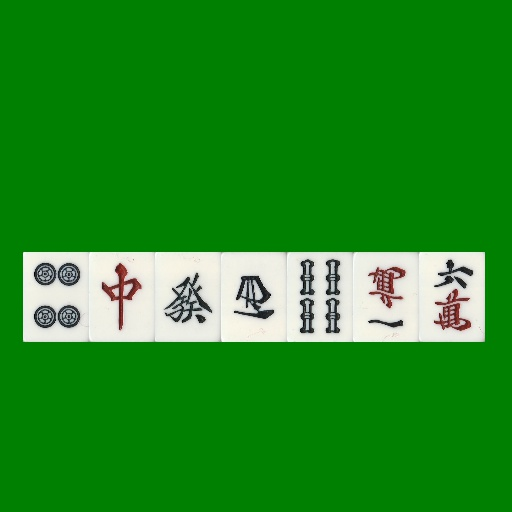1m: (353, 252, 419, 342)
4p: (23, 252, 89, 342)
4s: (287, 252, 353, 342)
6m: (419, 252, 485, 342)
hatsu: (155, 252, 221, 342)
tyun: (89, 252, 155, 342)
west: (221, 252, 287, 342)
